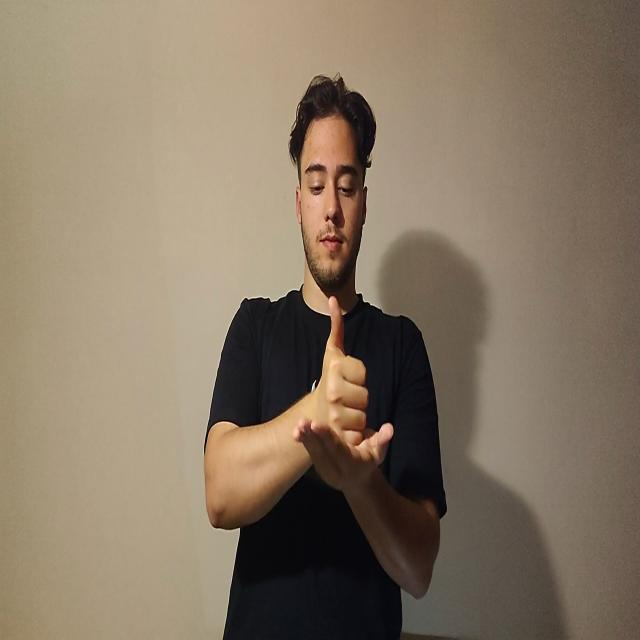help: (298, 295, 396, 496)
